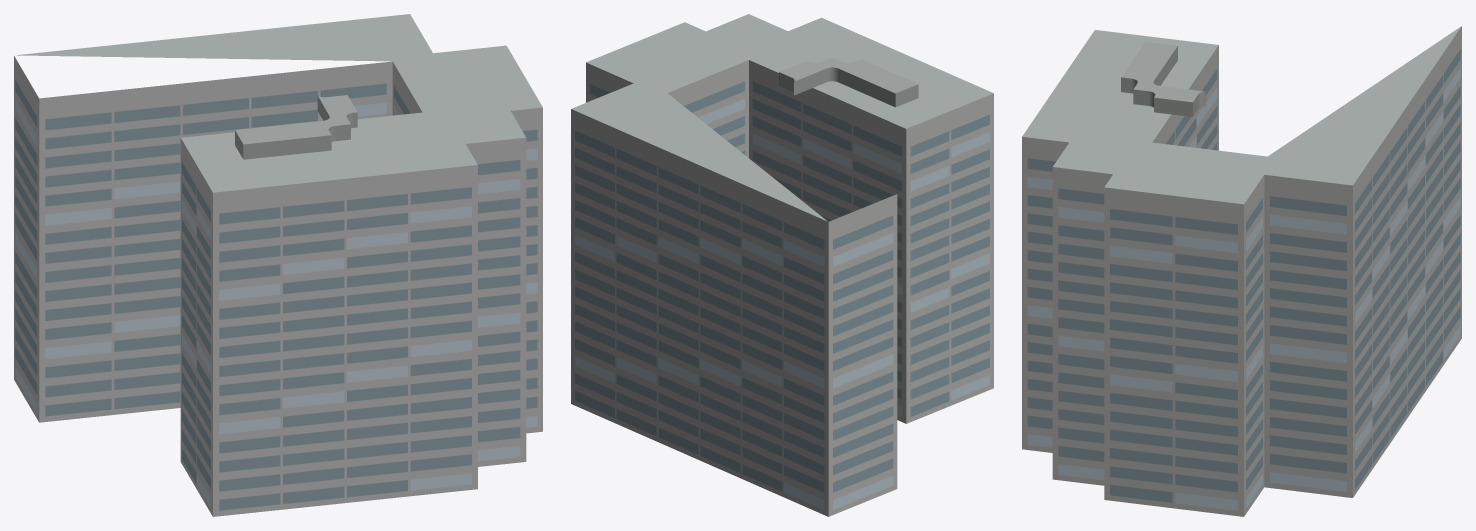
File: apt-a10024814.glb
The picture shows the model from 3 angles, left to right: view 1: azimuth 30°, elevation 25°; view 2: azimuth 150°, elevation 25°; view 3: azimuth 270°, elevation 25°; orthographic projection. The views are drawn at different scales.
Parts seen in each view (by area): view 1: apt-a10024814; view 2: apt-a10024814; view 3: apt-a10024814.
Part boxes in pixels (bbox=[...]): apt-a10024814: bbox=[14, 14, 542, 516]; apt-a10024814: bbox=[571, 14, 993, 516]; apt-a10024814: bbox=[1022, 26, 1461, 516].
Size of the model in its own units: 61.13 by 49 by 59.69.
